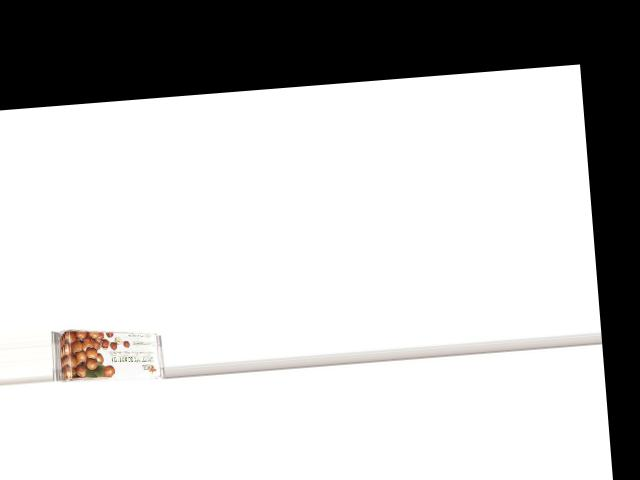chocolate: (51, 321, 165, 383)
